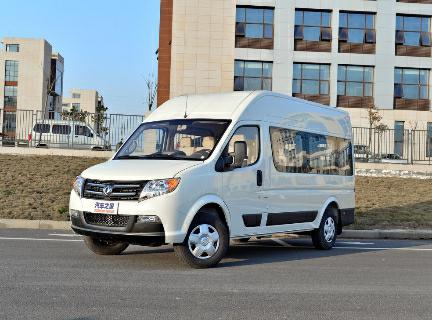东风-御风: (62, 89, 362, 271)
